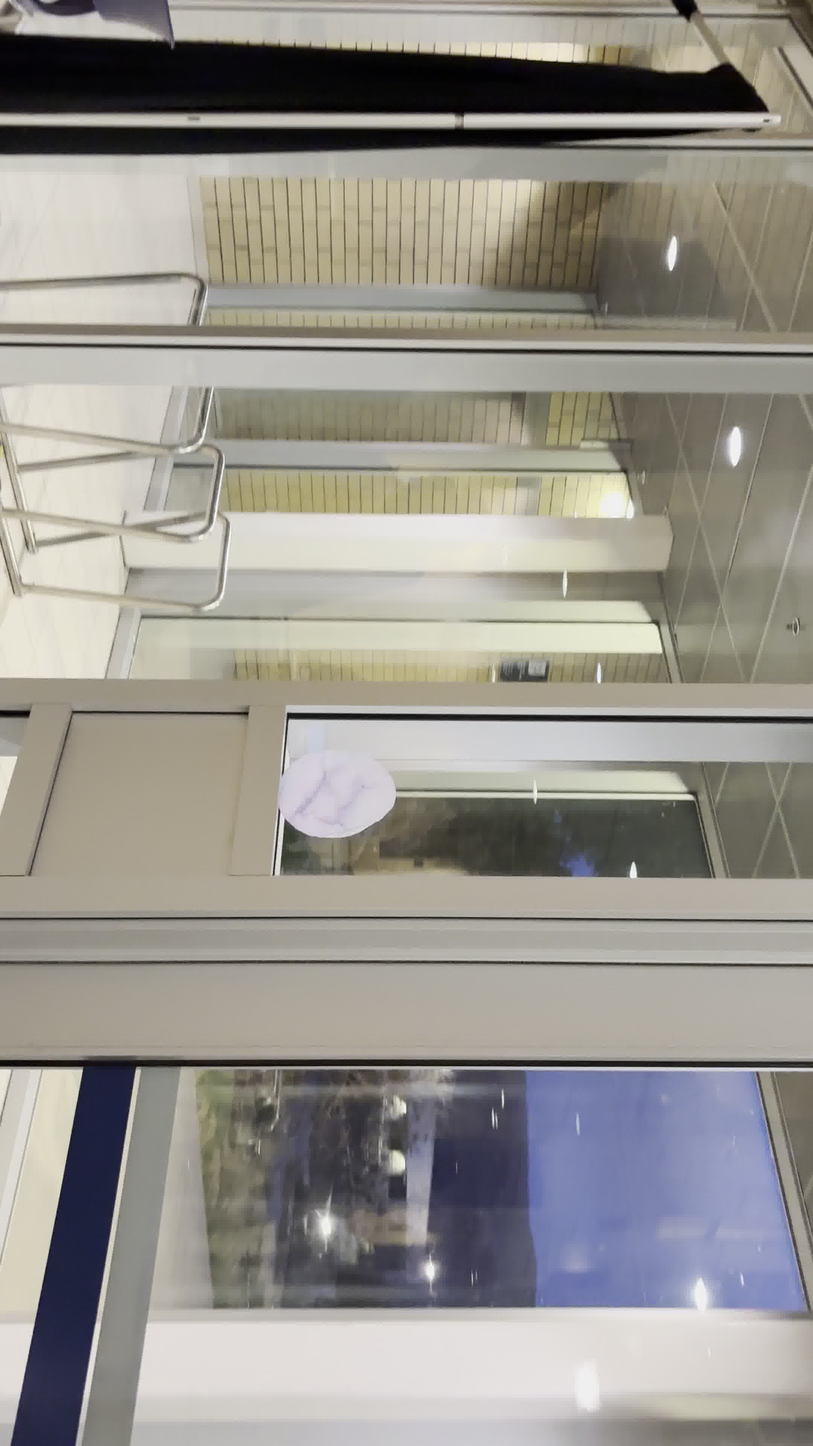Target: (276, 748, 398, 840)
